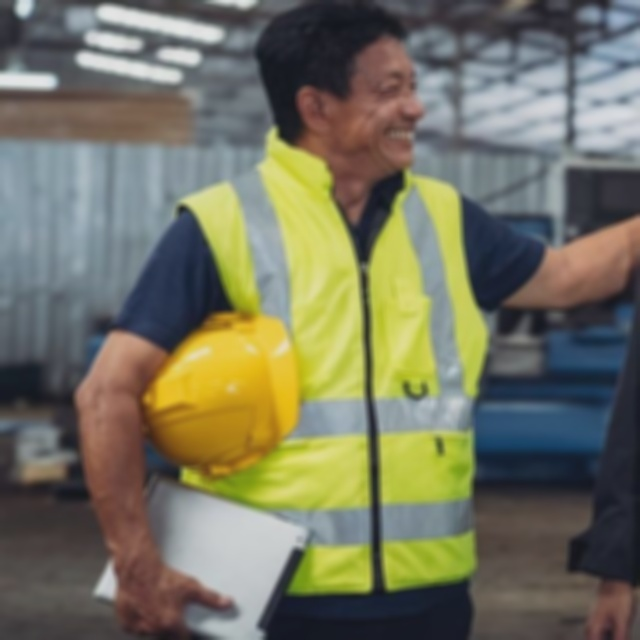Con_Chaleco: (180, 168, 484, 598)
Sin_Casco_Mascarrilla: (258, 0, 414, 172)
